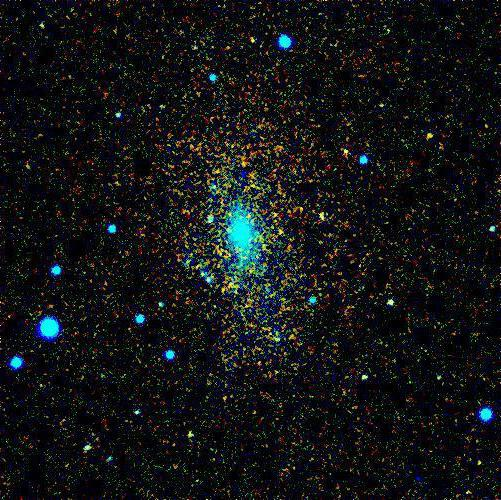star: (415, 122, 445, 152)
